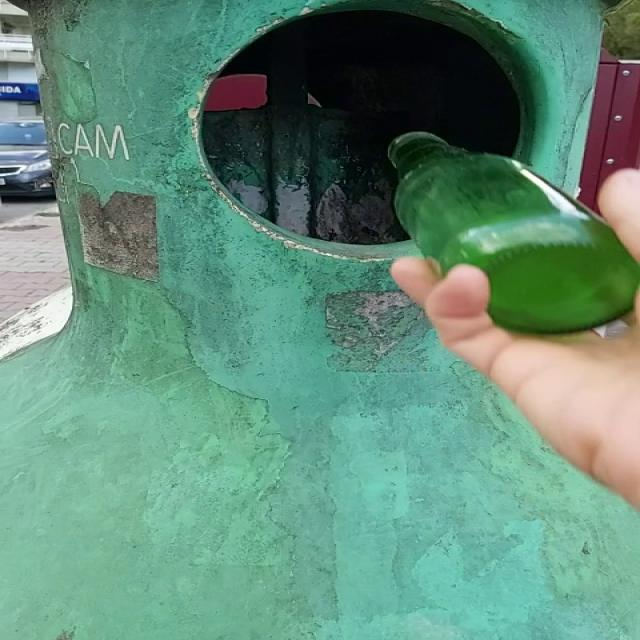glass: (389, 132, 640, 333)
